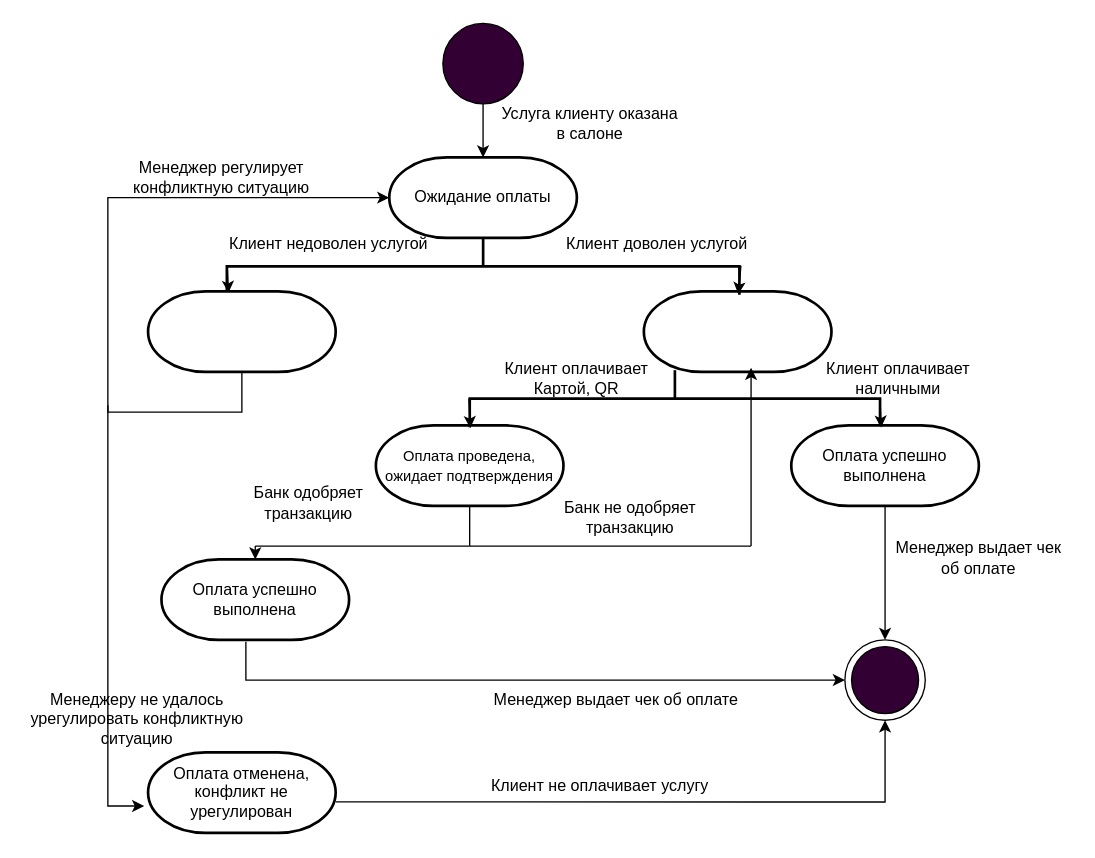
The diagram is 1095 pixels wide and 858 high, and some of its shapes have lost their labels. Each missing label, with the centre of its shape:
Выбор способа оплаты: [737,331]
Оплата приостановлена: [241,331]
